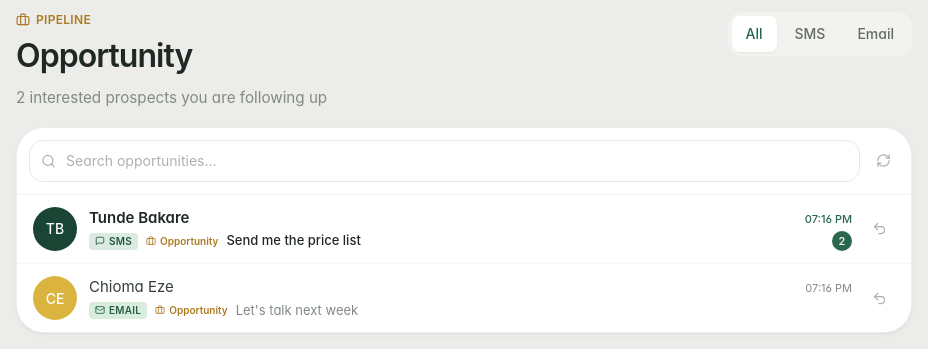
Test: OpportunityPage › takes a chat out of Opportunity through the status endpoint
Check: the text "Tunde Bakare" is shown, box [89, 207, 190, 229]
Click the 1st button named "Remove from Opportunity". click: (880, 229)
box: [864, 214, 895, 244]
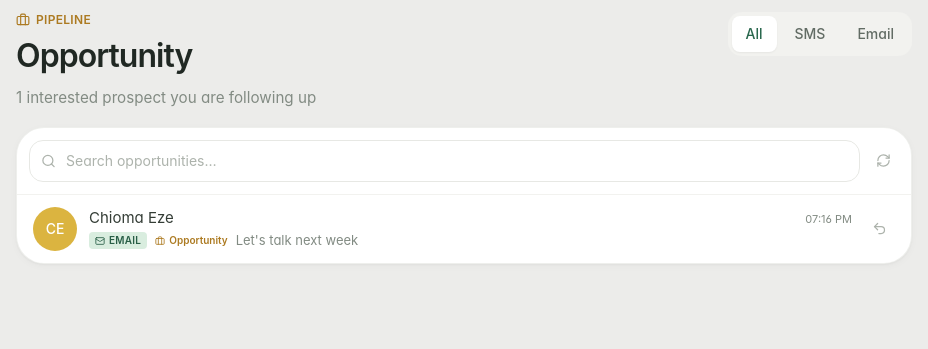
Check: the text "Chioma Eze" is shown, box [89, 207, 174, 229]
Check: the button "Tunde Bakare" is gone
